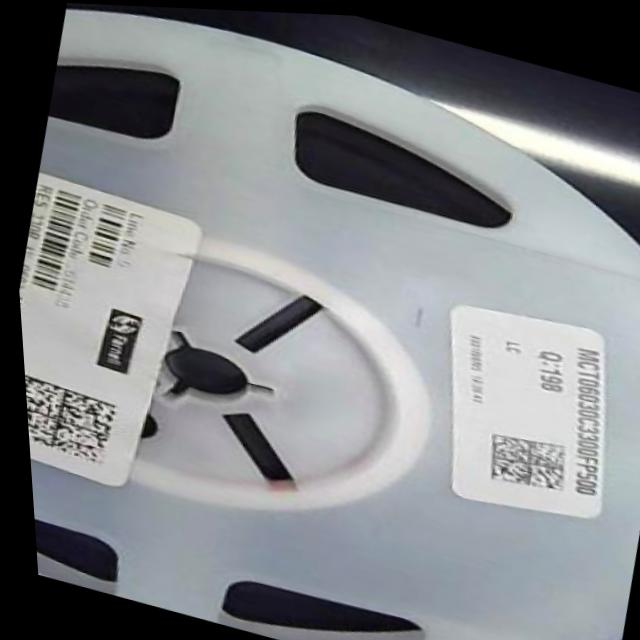datamatrix: (20, 368, 121, 468), (473, 421, 572, 497)
